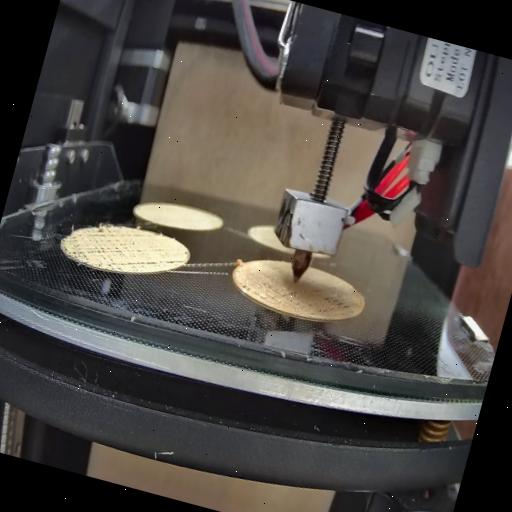under_extrusion: (233, 262, 362, 322), (64, 217, 164, 277), (162, 246, 188, 273)
